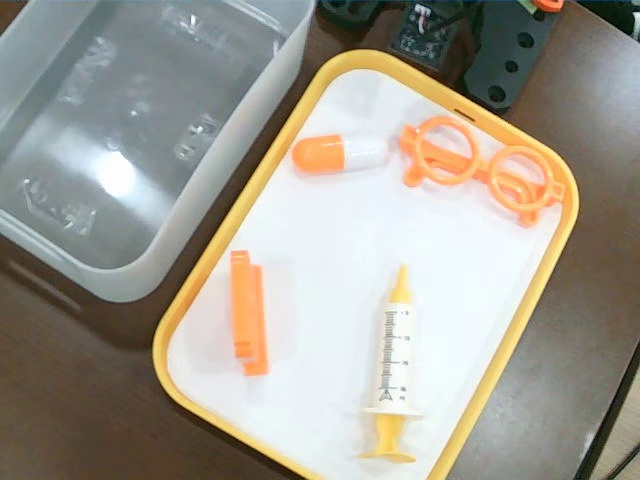pill: (292, 131, 389, 175)
syringe: (356, 262, 416, 465)
